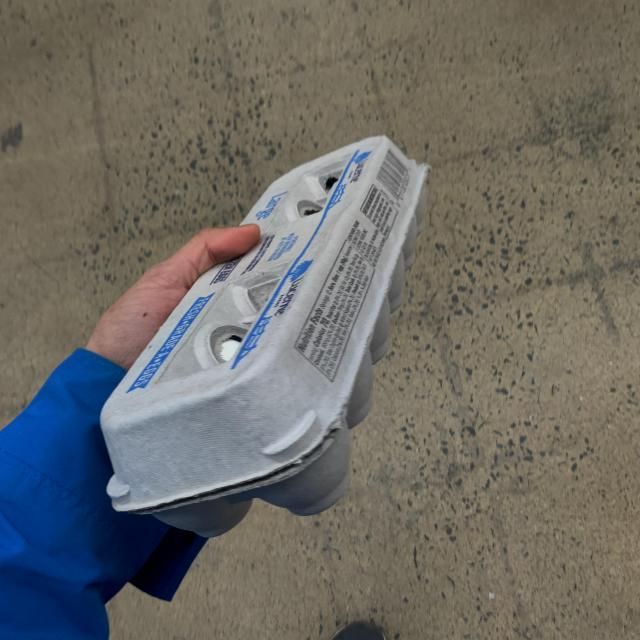egg: (119, 126, 458, 534)
